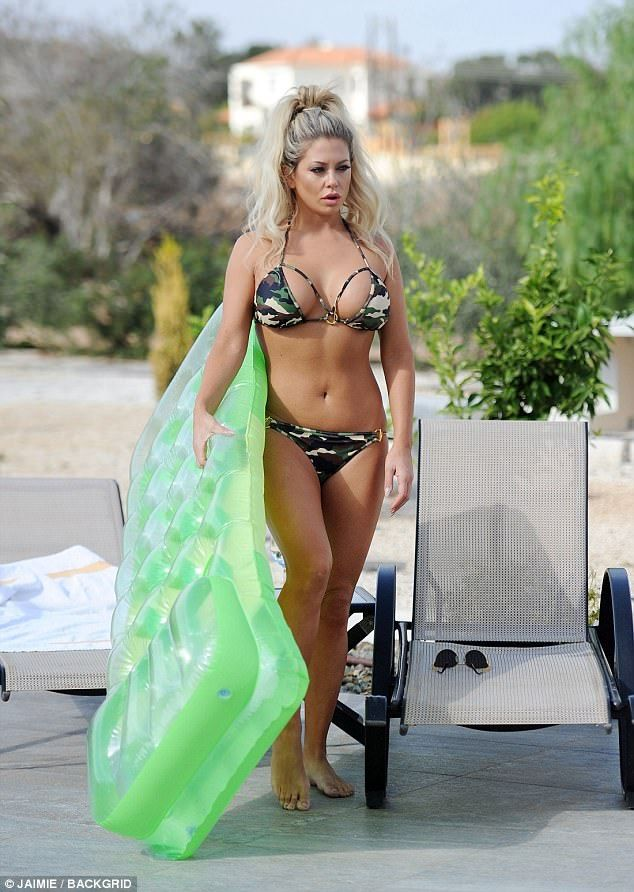Person: (108, 71, 423, 826)
